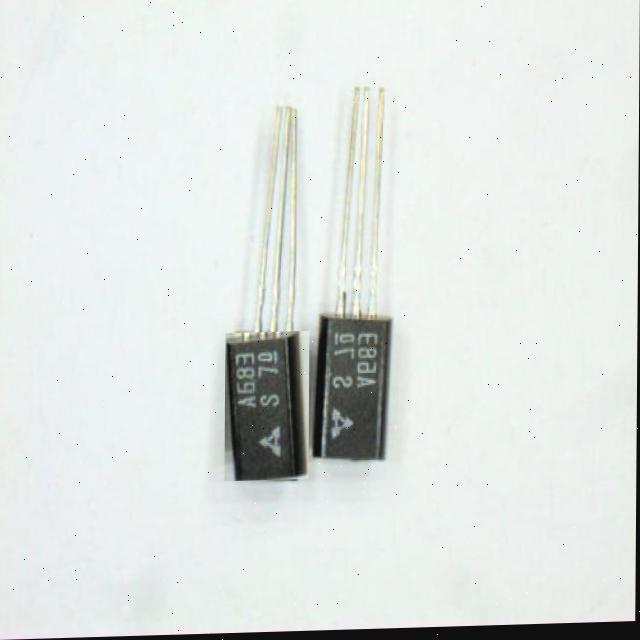Transistor: (212, 91, 320, 493), (323, 76, 402, 483)
